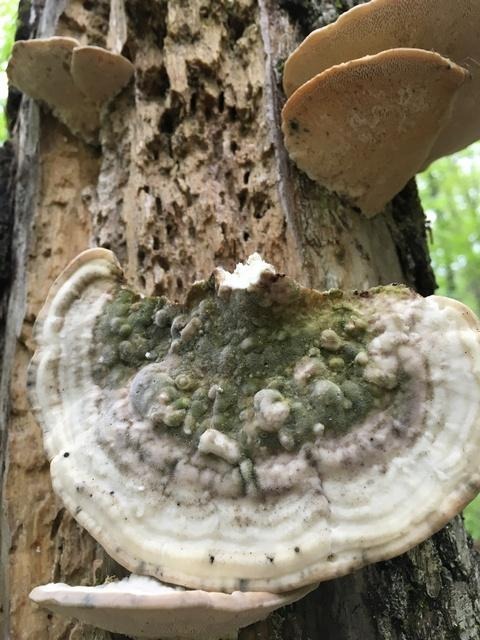poisonous_mushroom: (24, 244, 479, 596), (262, 5, 480, 200), (0, 18, 193, 176)
